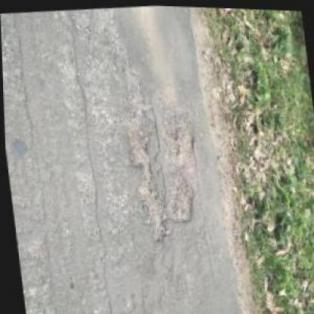Hueco: (119, 102, 206, 248)
